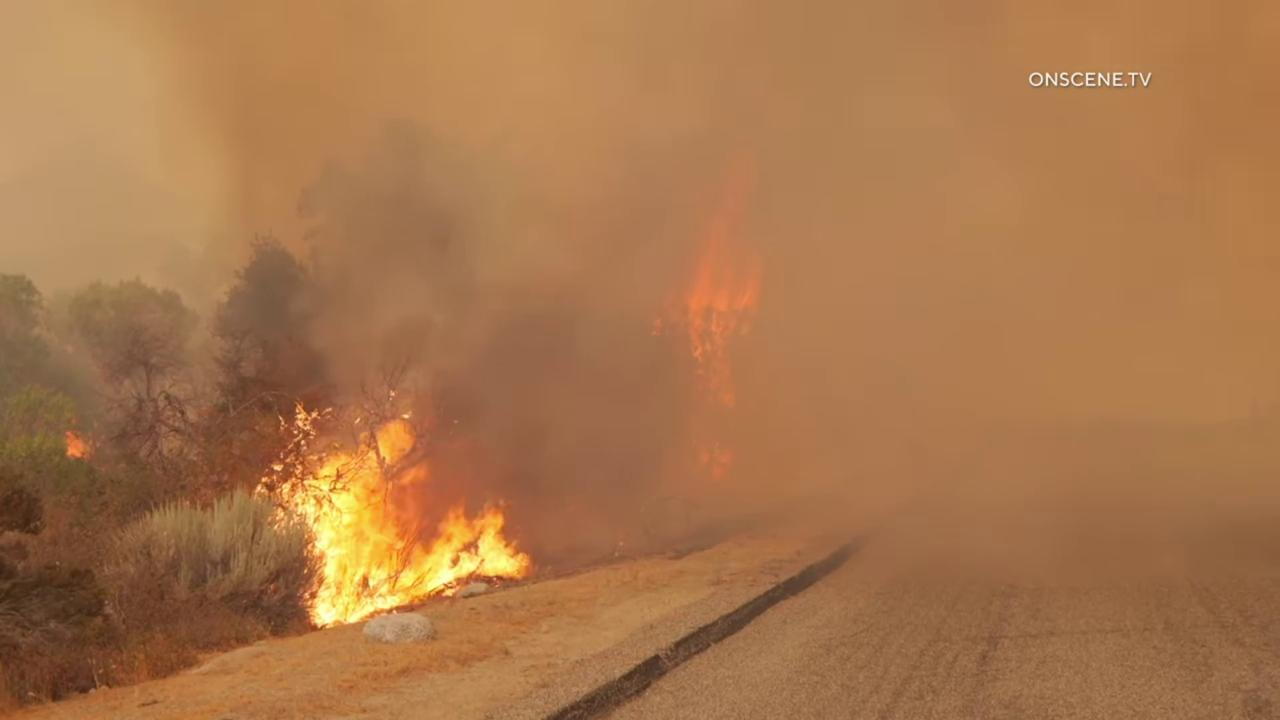fire: (253, 399, 535, 635), (650, 152, 770, 416), (56, 430, 100, 463), (694, 445, 731, 482)
smoke: (0, 0, 1280, 720)
